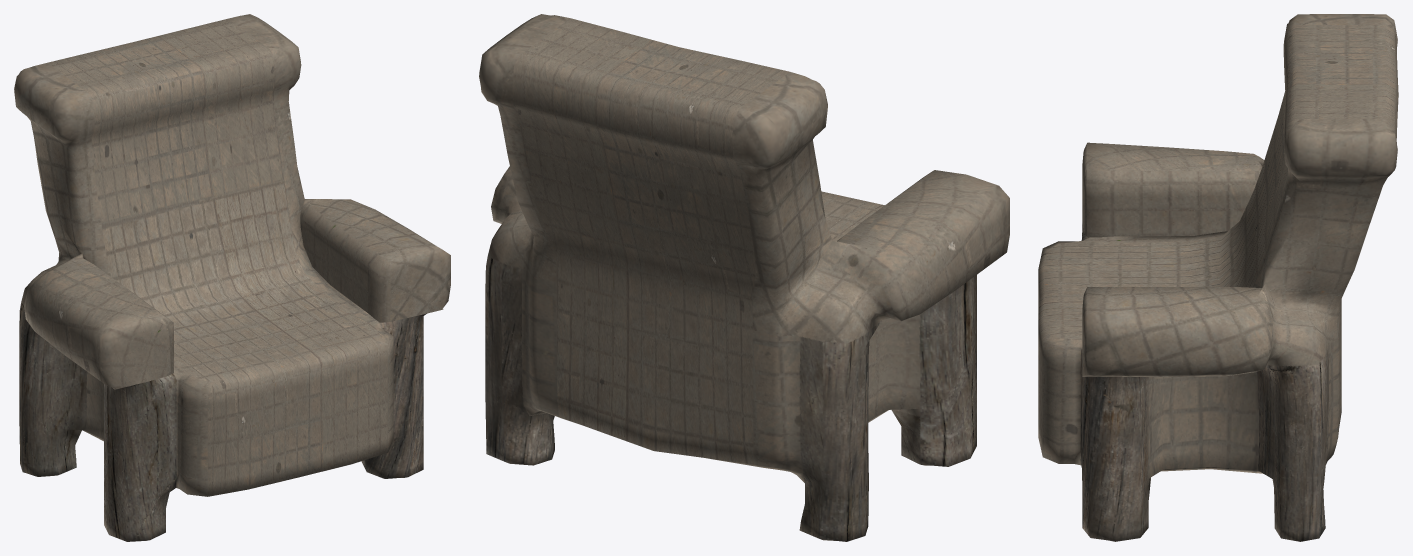
Rendered from Sillon.obj.
3 views of the same model, side by side, from view 1: azimuth 30°, elevation 25°; view 2: azimuth 150°, elevation 25°; view 3: azimuth 270°, elevation 25° (orthographic). The views are drawn at different scales.
Parts seen in each view (by area): view 1: Sillon_Cube; view 2: Sillon_Cube; view 3: Sillon_Cube.
Boxes of the visible parts, bbox=[...] form: Sillon_Cube: bbox=[14, 14, 450, 541]; Sillon_Cube: bbox=[479, 14, 1009, 541]; Sillon_Cube: bbox=[1038, 14, 1398, 541].
Size of the model in its own units: 4.46 by 4.52 by 3.74.
